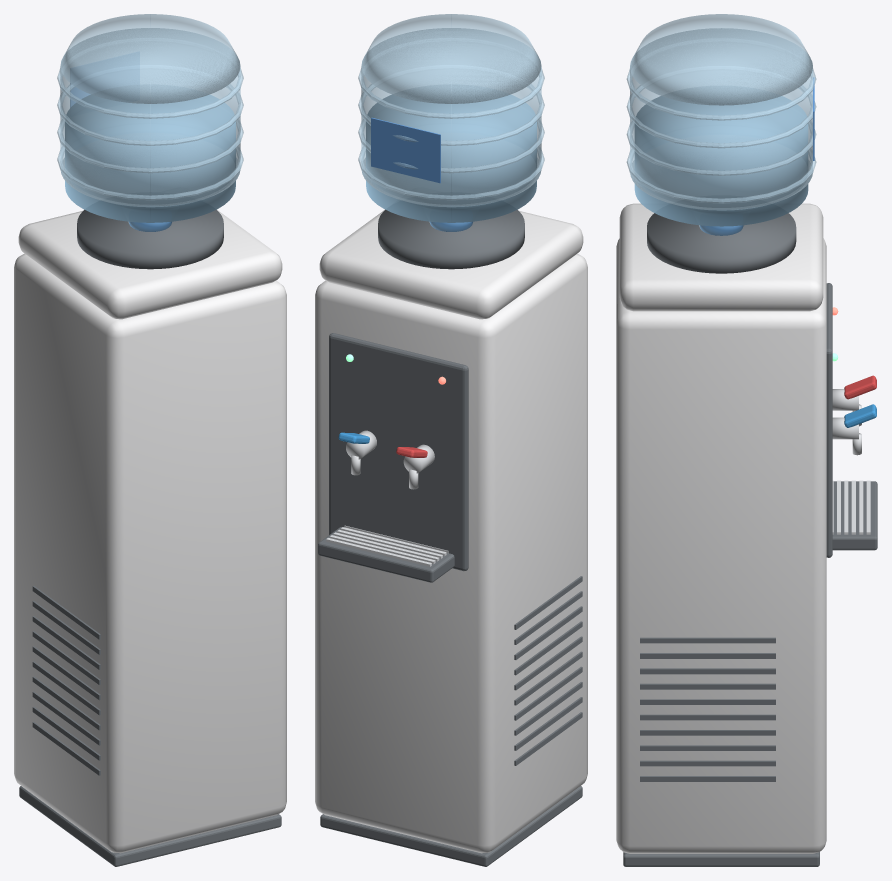
File: dispenser.glb
3 renders of one model, left to right at view 1: azimuth 30°, elevation 25°; view 2: azimuth 150°, elevation 25°; view 3: azimuth 270°, elevation 25°, orthographic.
Parts seen in each view (by area): view 1: EX_hq:dispenser-badan, EX_unri:galon-kaca, EX_hq:air, EX_hq:dispenser-panel; view 2: EX_hq:dispenser-badan, EX_hq:dispenser-panel, EX_unri:galon-kaca, EX_hq:air, EX_hq:dispenser-krom, EX_hq:label-galon; view 3: EX_hq:dispenser-badan, EX_unri:galon-kaca, EX_hq:dispenser-panel, EX_hq:air, EX_hq:dispenser-krom.
Boxes of the visible parts, box(x1,y1,x2,y2) form: EX_hq:dispenser-badan: box(14, 210, 286, 853); EX_unri:galon-kaca: box(57, 14, 243, 231); EX_hq:air: box(65, 94, 235, 222); EX_hq:dispenser-panel: box(19, 209, 281, 866); EX_hq:dispenser-badan: box(315, 210, 587, 853); EX_hq:dispenser-panel: box(318, 209, 582, 866); EX_unri:galon-kaca: box(358, 14, 544, 231); EX_hq:air: box(366, 94, 536, 222); EX_hq:dispenser-krom: box(326, 430, 448, 566); EX_hq:label-galon: box(371, 117, 440, 183); EX_hq:dispenser-badan: box(616, 203, 826, 853); EX_unri:galon-kaca: box(626, 14, 816, 235); EX_hq:dispenser-panel: box(623, 213, 877, 866); EX_hq:air: box(634, 96, 808, 226); EX_hq:dispenser-krom: box(832, 389, 870, 534).
Bounding box in the file's own units: 0.316 × 1.26 × 0.385.
